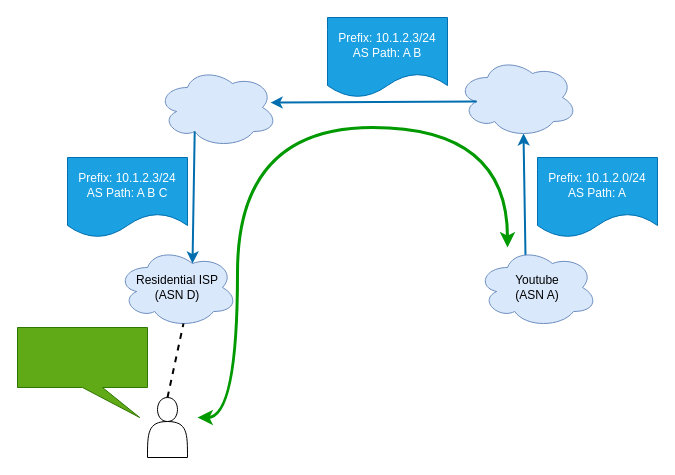
The diagram is 675 pixels wide and 475 high, and some of its shapes have lost their labels. The centre of each missing label's shape, as x and y in pixels:
Tier 1 ISP 1 (ASN B): point 517,97
Tier 1 ISP 2 (ASN C): point 217,107
Visit youtube at 10.1.2.3: point 82,372
